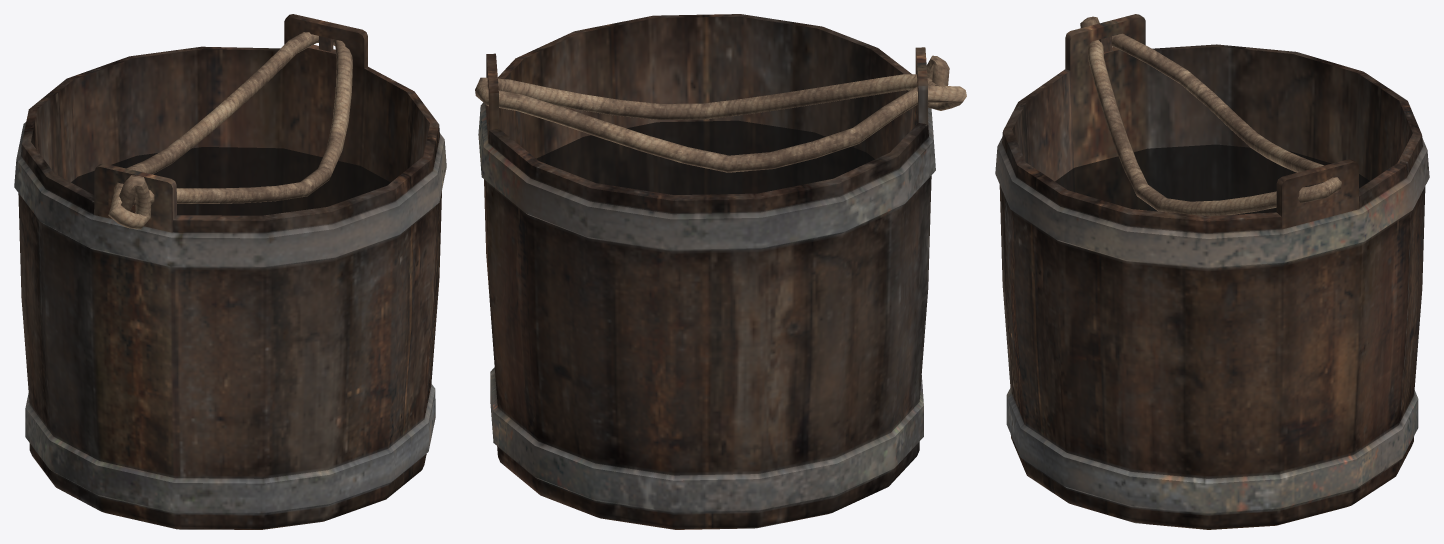
File: bucket_water.glb
3 views of the same model, side by side, from view 1: azimuth 30°, elevation 25°; view 2: azimuth 150°, elevation 25°; view 3: azimuth 270°, elevation 25° (orthographic). The views are drawn at different scales.
Visible parts, largest first — view 1: bucket water_Planks_0; view 2: bucket water_Planks_0; view 3: bucket water_Planks_0.
Part boxes in pixels (box(x1,y1,x2,y2)): bucket water_Planks_0: box(14, 14, 446, 529); bucket water_Planks_0: box(475, 14, 966, 529); bucket water_Planks_0: box(995, 14, 1429, 529).
Size of the model in its own units: 0.374 by 0.3374 by 0.374.
Materials: 3 (2 with a texture image).
